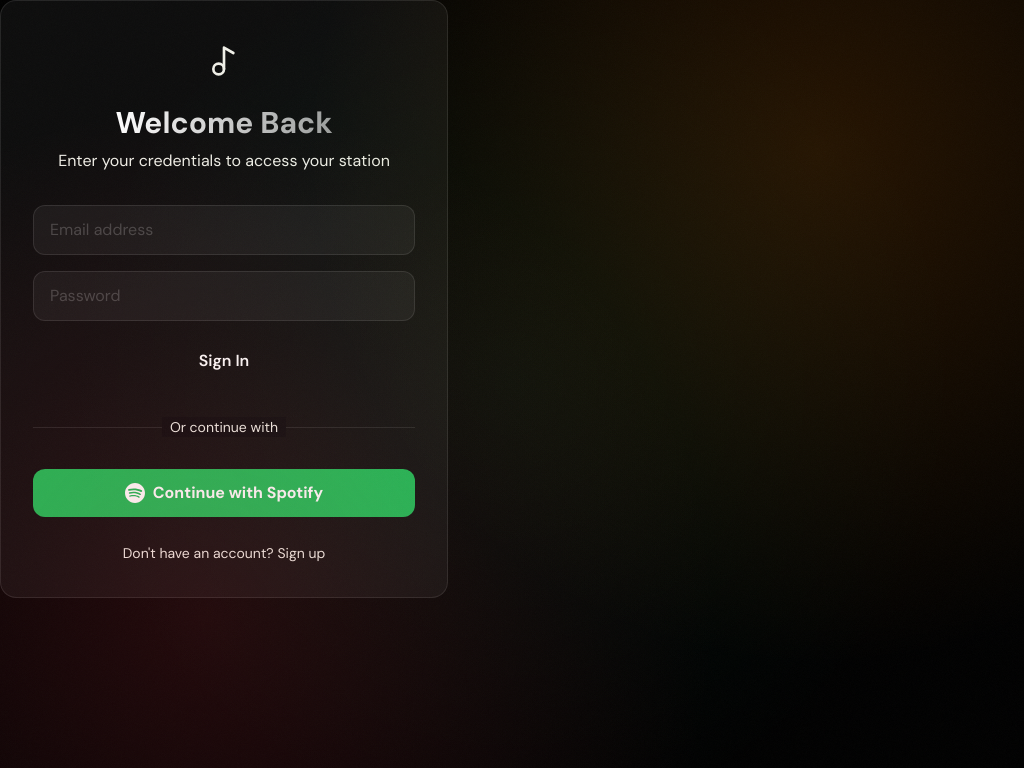
Test case: AuthForm Component › Login Flow › should handle login errors
In the field with test id "email-input": x=224, y=230 [33,205,415,255], type "test@example.com"
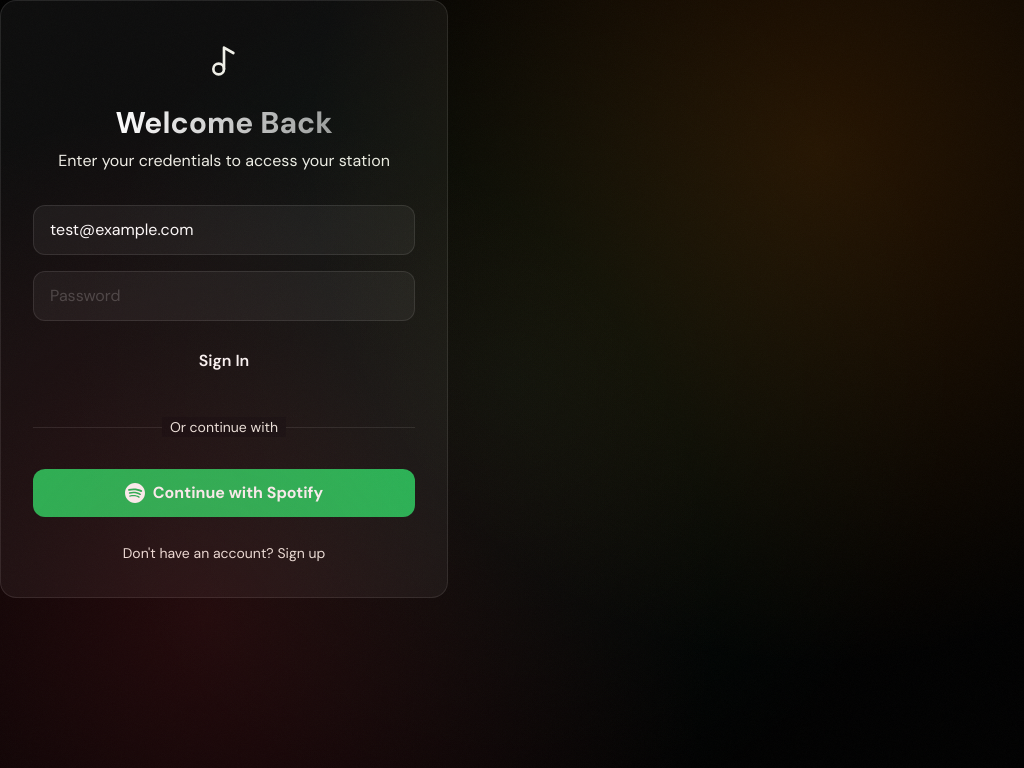
In the password field with test id "password-input": x=224, y=296 [33,271,415,321], type "wrongpassword"
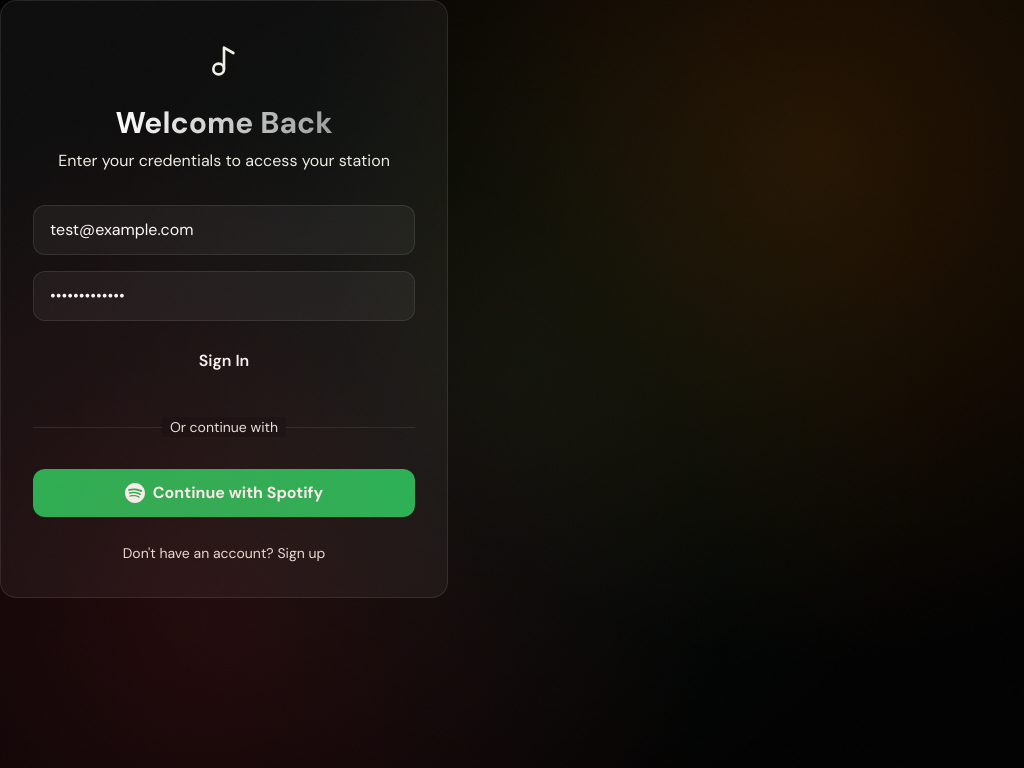
Click the button with test id "submit-button": x=224, y=361 [33,337,415,385]
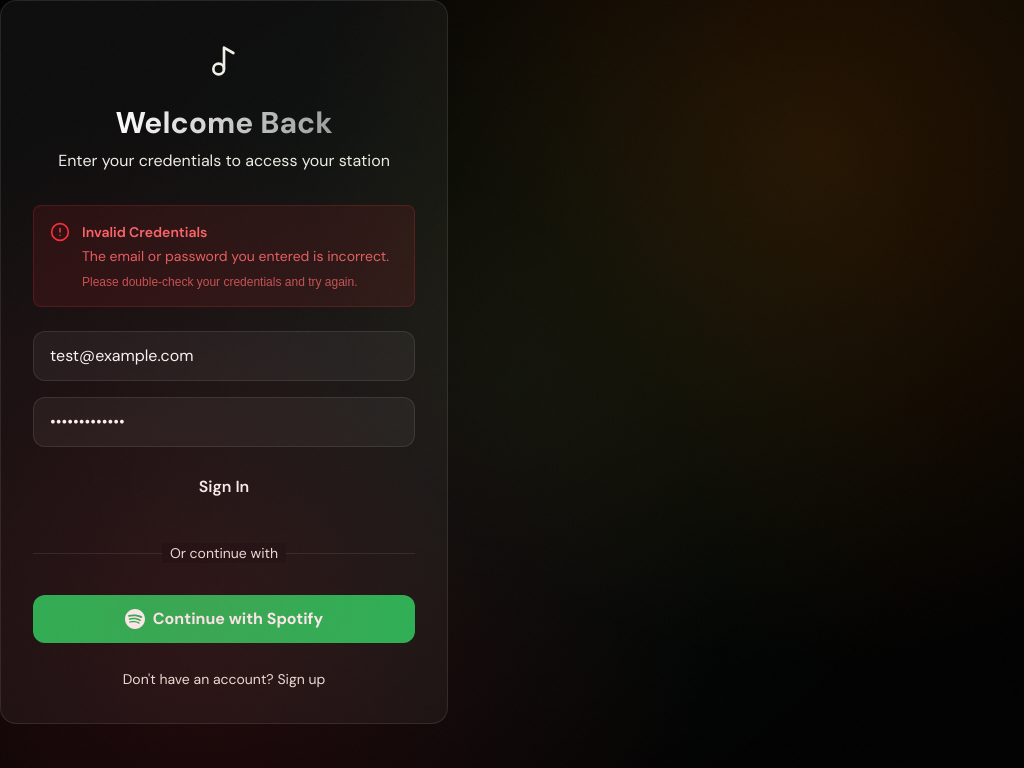
Expected: the text "Invalid Credentials" is shown, [82,223,207,241]
